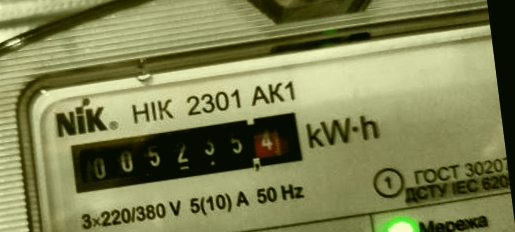0: (90, 153, 108, 179), (117, 147, 135, 173)
2: (171, 136, 190, 164)
3: (198, 130, 218, 157)
4: (255, 123, 277, 154)
5: (225, 126, 245, 155), (145, 141, 162, 167)
screen: (55, 100, 312, 202)
